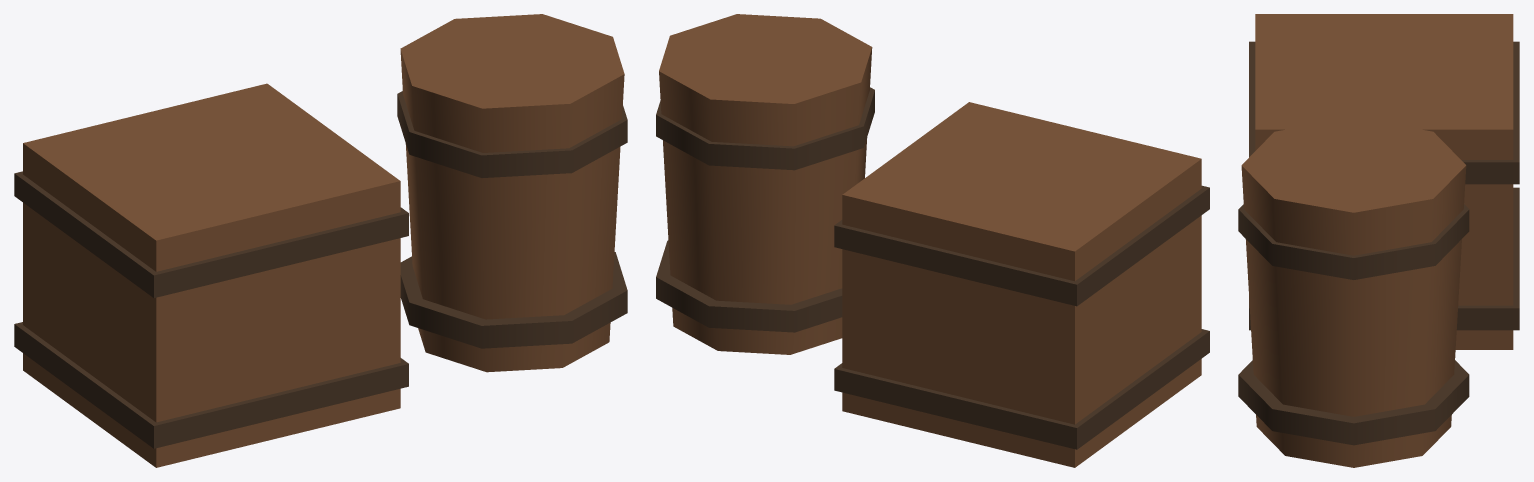
The model's file is village_storage.glb.
The picture shows the model from 3 angles, left to right: view 1: azimuth 30°, elevation 25°; view 2: azimuth 150°, elevation 25°; view 3: azimuth 270°, elevation 25°; orthographic projection. The views are drawn at different scales.
Parts seen in each view (by area): view 1: village_storage_LOD0; view 2: village_storage_LOD0; view 3: village_storage_LOD0.
Boxes of the visible parts, box(x1,y1,x2,y2) form: village_storage_LOD0: box(14, 14, 627, 467); village_storage_LOD0: box(656, 14, 1209, 467); village_storage_LOD0: box(1238, 14, 1519, 467).
Size of what is drawn, in the model's own units: 1.9 by 0.95 by 0.925.
